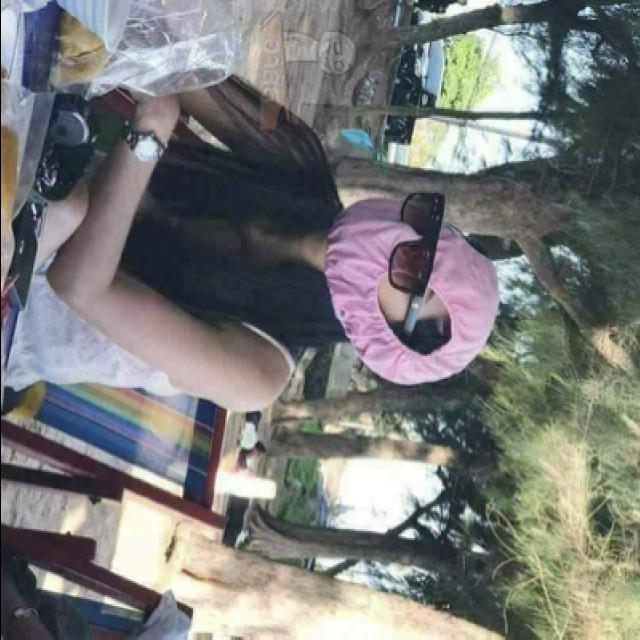mask: (324, 193, 454, 320)
